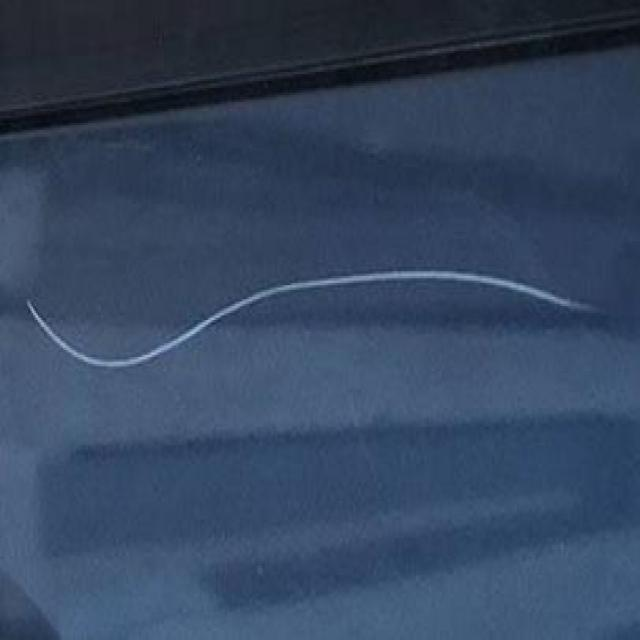scratch: (13, 261, 614, 384)
